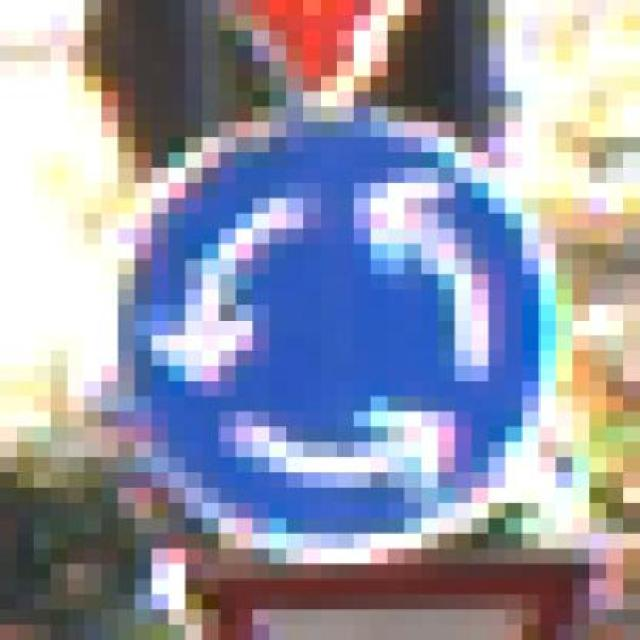Round-About: (51, 122, 623, 564)
